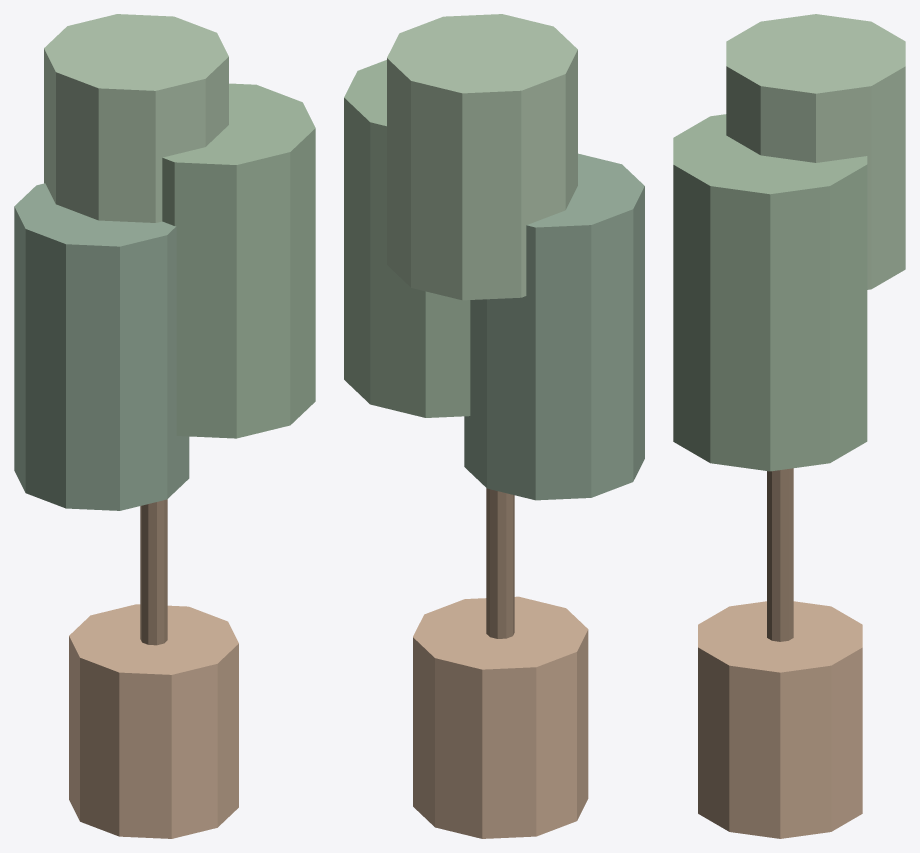
File: tall-plant.glb
3 renders of one model, left to right at view 1: azimuth 30°, elevation 25°; view 2: azimuth 150°, elevation 25°; view 3: azimuth 270°, elevation 25°, orthographic. The views are drawn at different scales.
Visible parts, largest first — view 1: Tall Olive Plant; view 2: Tall Olive Plant; view 3: Tall Olive Plant.
Boxes of the visible parts, x1,y1,x2,y2 form: Tall Olive Plant: [14, 14, 315, 838]; Tall Olive Plant: [344, 14, 644, 838]; Tall Olive Plant: [673, 14, 905, 838].
Bounding box in the file's own units: 0.625 × 1.62 × 0.4562.
